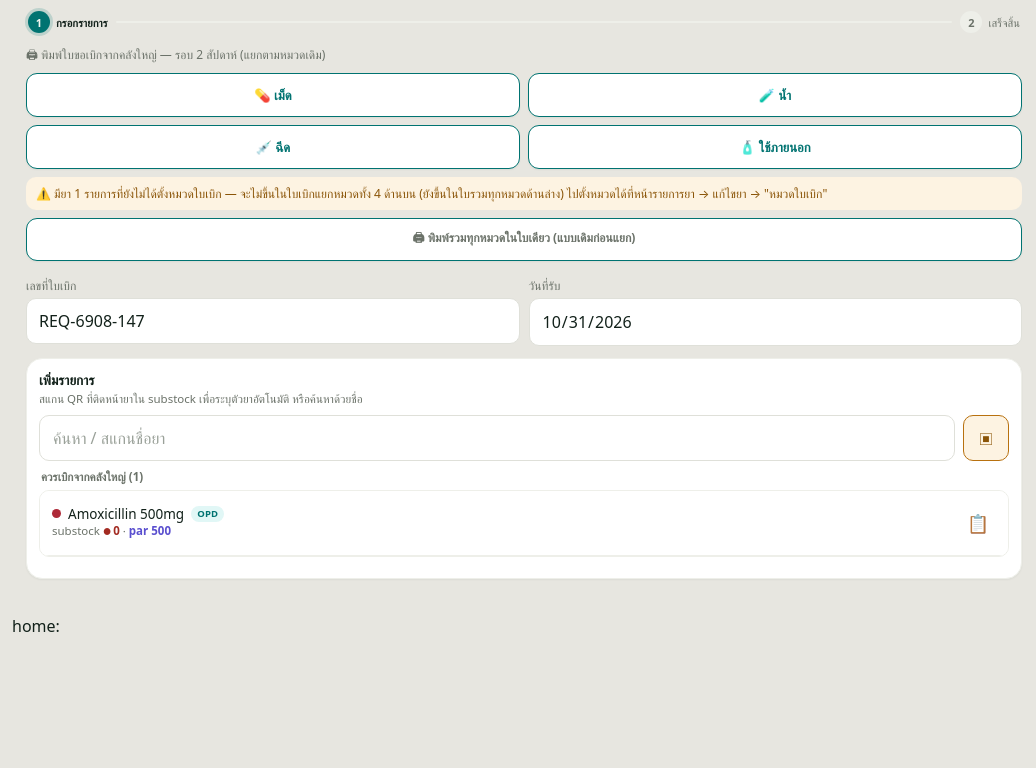
Test: ReceiveScreen — row-tap-to-substock-card regression › tapping the row itself picks the med for receiving (the row's own primary action still works)
Click the text "Amoxicillin 500mg" at (138, 514), box x1=52 y1=505 x2=224 y2=523
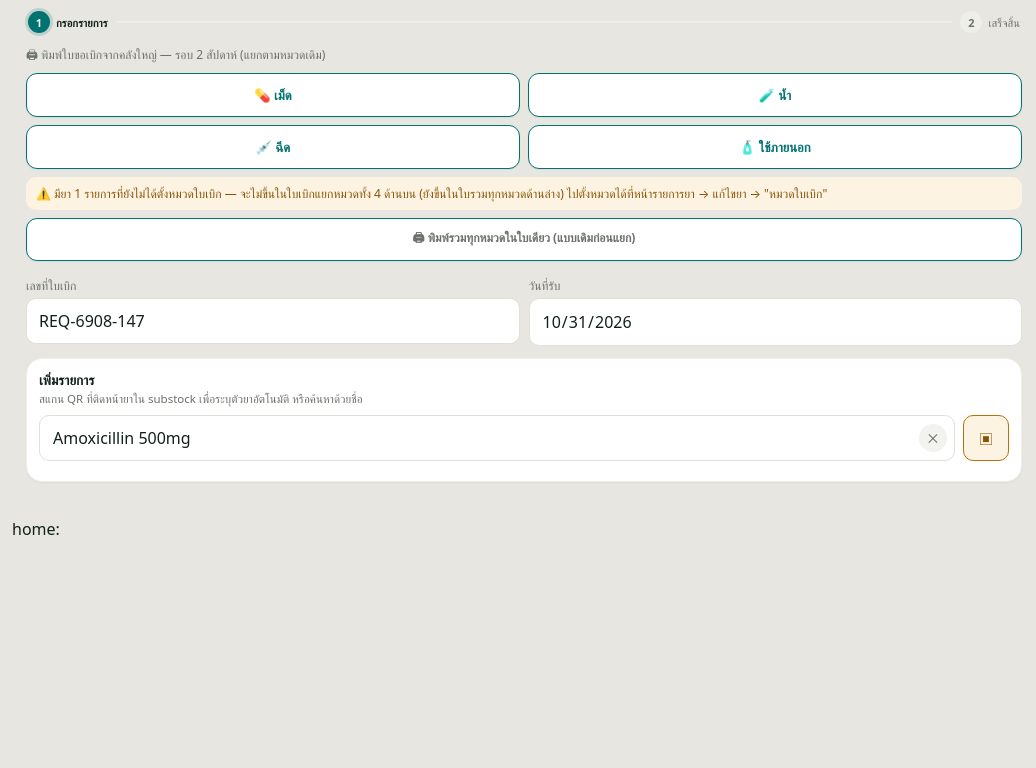
Expected: the text with test id "probe" does not show "substockcard", x1=12 y1=518 x2=60 y2=540
Now the text "ควรเบิกจากคลังใหญ่ (1)" is gone
